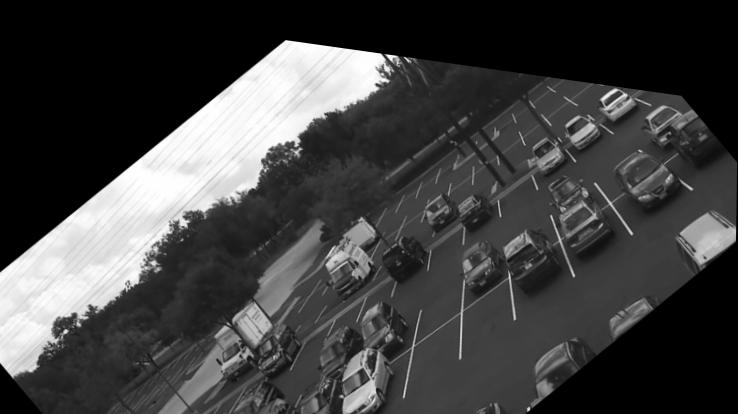empty: (403, 304, 456, 385), (464, 265, 510, 334), (497, 156, 540, 204), (422, 260, 458, 317), (586, 120, 633, 163), (294, 315, 330, 358), (328, 288, 364, 325), (432, 215, 461, 255), (511, 192, 545, 224), (545, 83, 580, 113), (212, 381, 243, 413), (302, 266, 331, 299), (362, 268, 391, 300), (569, 65, 603, 91), (499, 120, 526, 152), (523, 102, 552, 131), (285, 362, 313, 391), (472, 142, 498, 173), (397, 200, 423, 228), (473, 129, 498, 158), (373, 217, 398, 245), (538, 77, 567, 101), (516, 97, 545, 121), (511, 82, 536, 109), (583, 67, 608, 92), (496, 112, 520, 138), (527, 69, 555, 90), (450, 147, 472, 173), (450, 160, 473, 184), (381, 200, 403, 225), (561, 64, 589, 83), (404, 184, 426, 208), (429, 163, 449, 189), (439, 138, 456, 167), (496, 96, 516, 120), (379, 188, 399, 211), (418, 158, 435, 184), (635, 71, 663, 86), (399, 174, 416, 197), (407, 213, 430, 226), (548, 62, 569, 75), (472, 168, 490, 181)
occupied: (518, 303, 599, 396), (662, 185, 737, 258), (611, 124, 684, 194), (339, 336, 401, 414), (663, 84, 728, 152), (503, 211, 561, 285), (555, 174, 616, 244), (248, 315, 304, 374), (325, 226, 376, 290), (604, 268, 663, 323), (361, 289, 411, 341), (382, 223, 431, 275), (318, 315, 366, 368), (446, 378, 514, 414), (463, 228, 505, 283), (300, 366, 345, 414), (233, 373, 282, 414), (597, 69, 639, 108), (642, 86, 683, 125), (457, 179, 495, 220), (422, 179, 460, 219), (532, 120, 568, 160), (565, 97, 602, 134), (549, 160, 593, 191), (254, 389, 301, 414)
